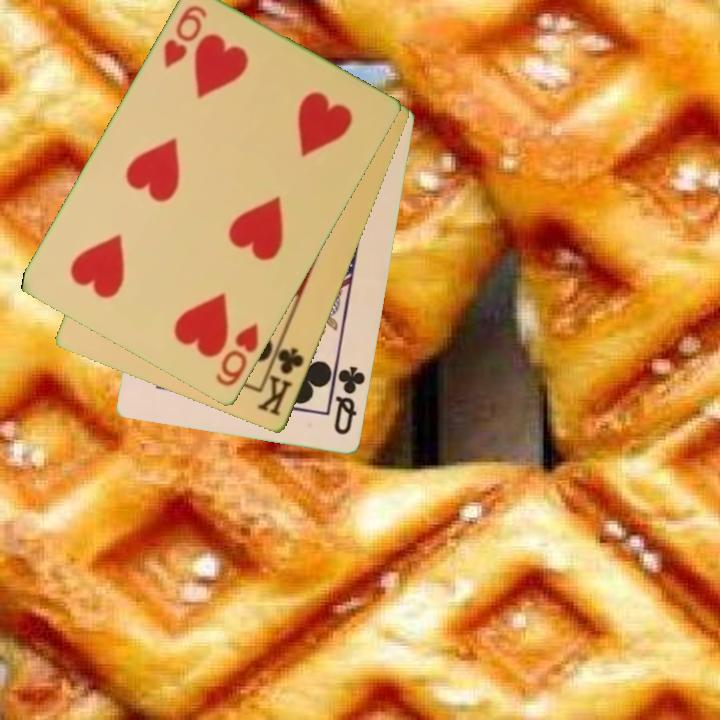6h: (212, 320, 262, 390), (160, 2, 210, 72)
Kc: (254, 335, 307, 420)
Qc: (331, 363, 369, 439)
